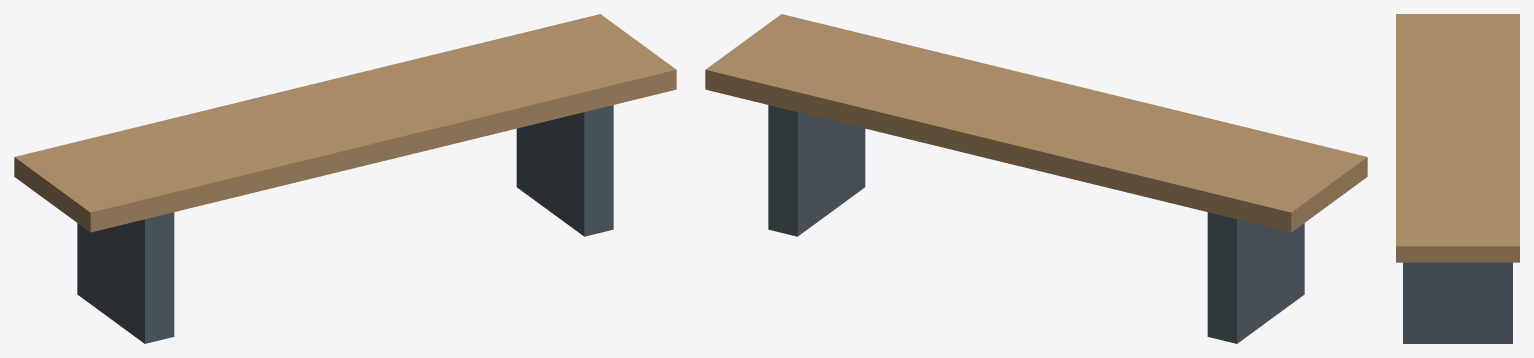
Rendered from football-soccer-club-grounds-changing-bench-912e20bc.glb.
The picture shows the model from 3 angles, left to right: view 1: azimuth 30°, elevation 25°; view 2: azimuth 150°, elevation 25°; view 3: azimuth 270°, elevation 25°; orthographic projection. The views are drawn at different scales.
Visible parts, largest first — view 1: changing-bench; view 2: changing-bench; view 3: changing-bench.
Boxes of the visible parts, left/top/right/bottom form: changing-bench: left=14, top=14, right=676, bottom=343; changing-bench: left=705, top=14, right=1367, bottom=343; changing-bench: left=1396, top=14, right=1519, bottom=343.
Size of the model in its own units: 2 by 0.485 by 0.45.
